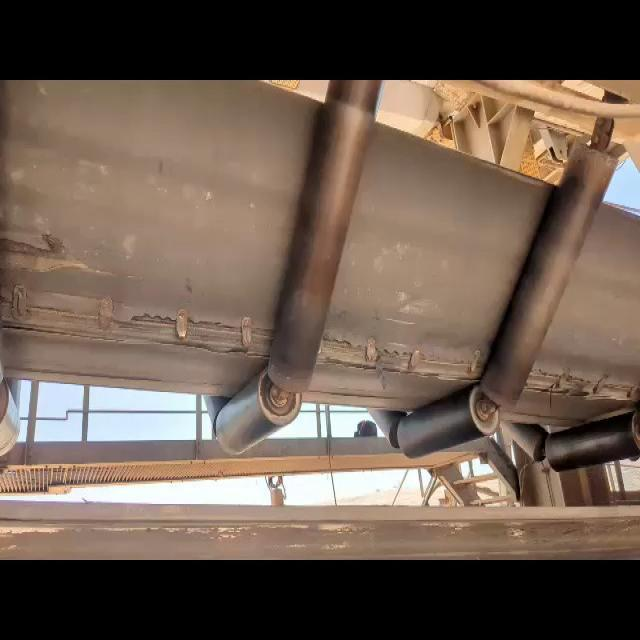Tear: (2, 280, 280, 367), (314, 316, 490, 389), (527, 356, 640, 408)
Wear: (0, 221, 116, 286)
